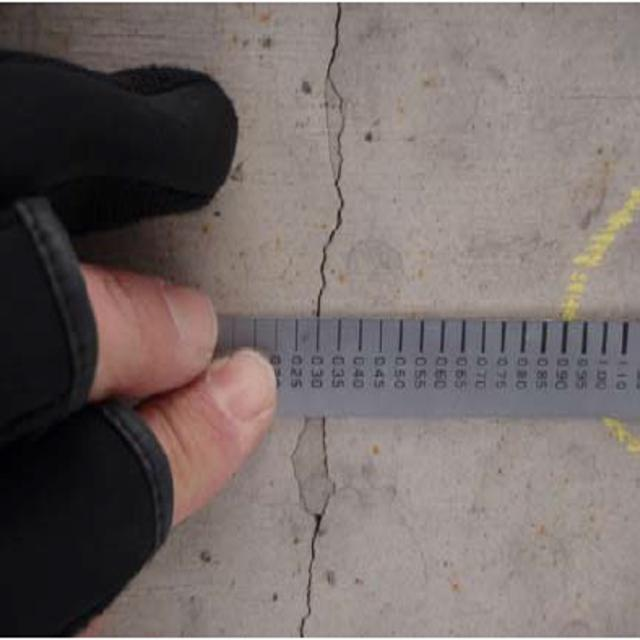crack: (297, 3, 394, 320), (277, 420, 360, 640)
